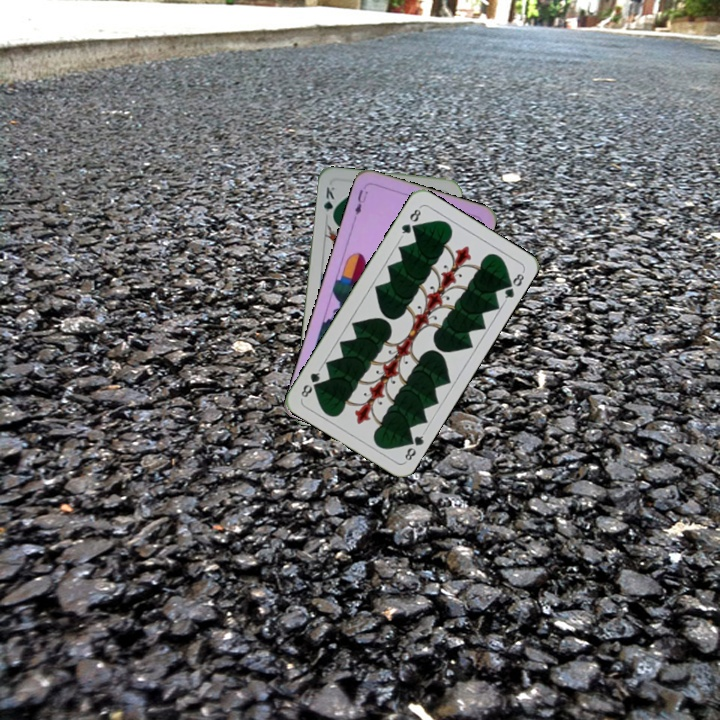EU: (351, 185, 370, 217)
G8: (397, 203, 424, 240), (401, 428, 428, 464)
GK: (319, 183, 337, 222)
